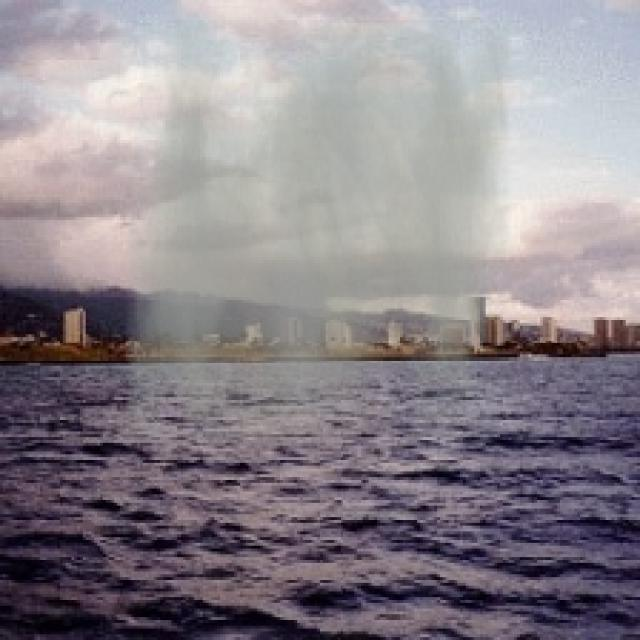Smoke: (126, 20, 512, 446)
